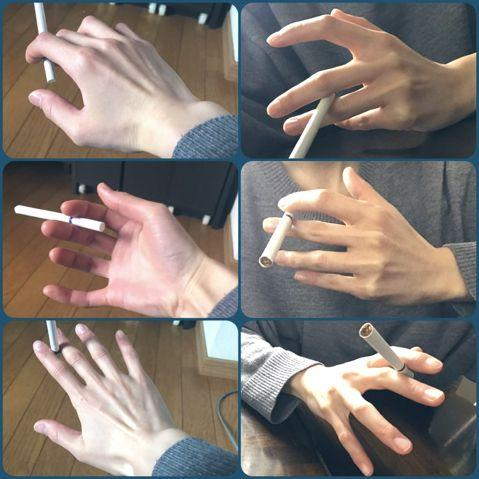cigarette: (288, 92, 336, 159), (359, 323, 414, 379), (14, 205, 105, 233), (259, 211, 296, 269), (34, 2, 57, 84), (46, 320, 59, 352)
